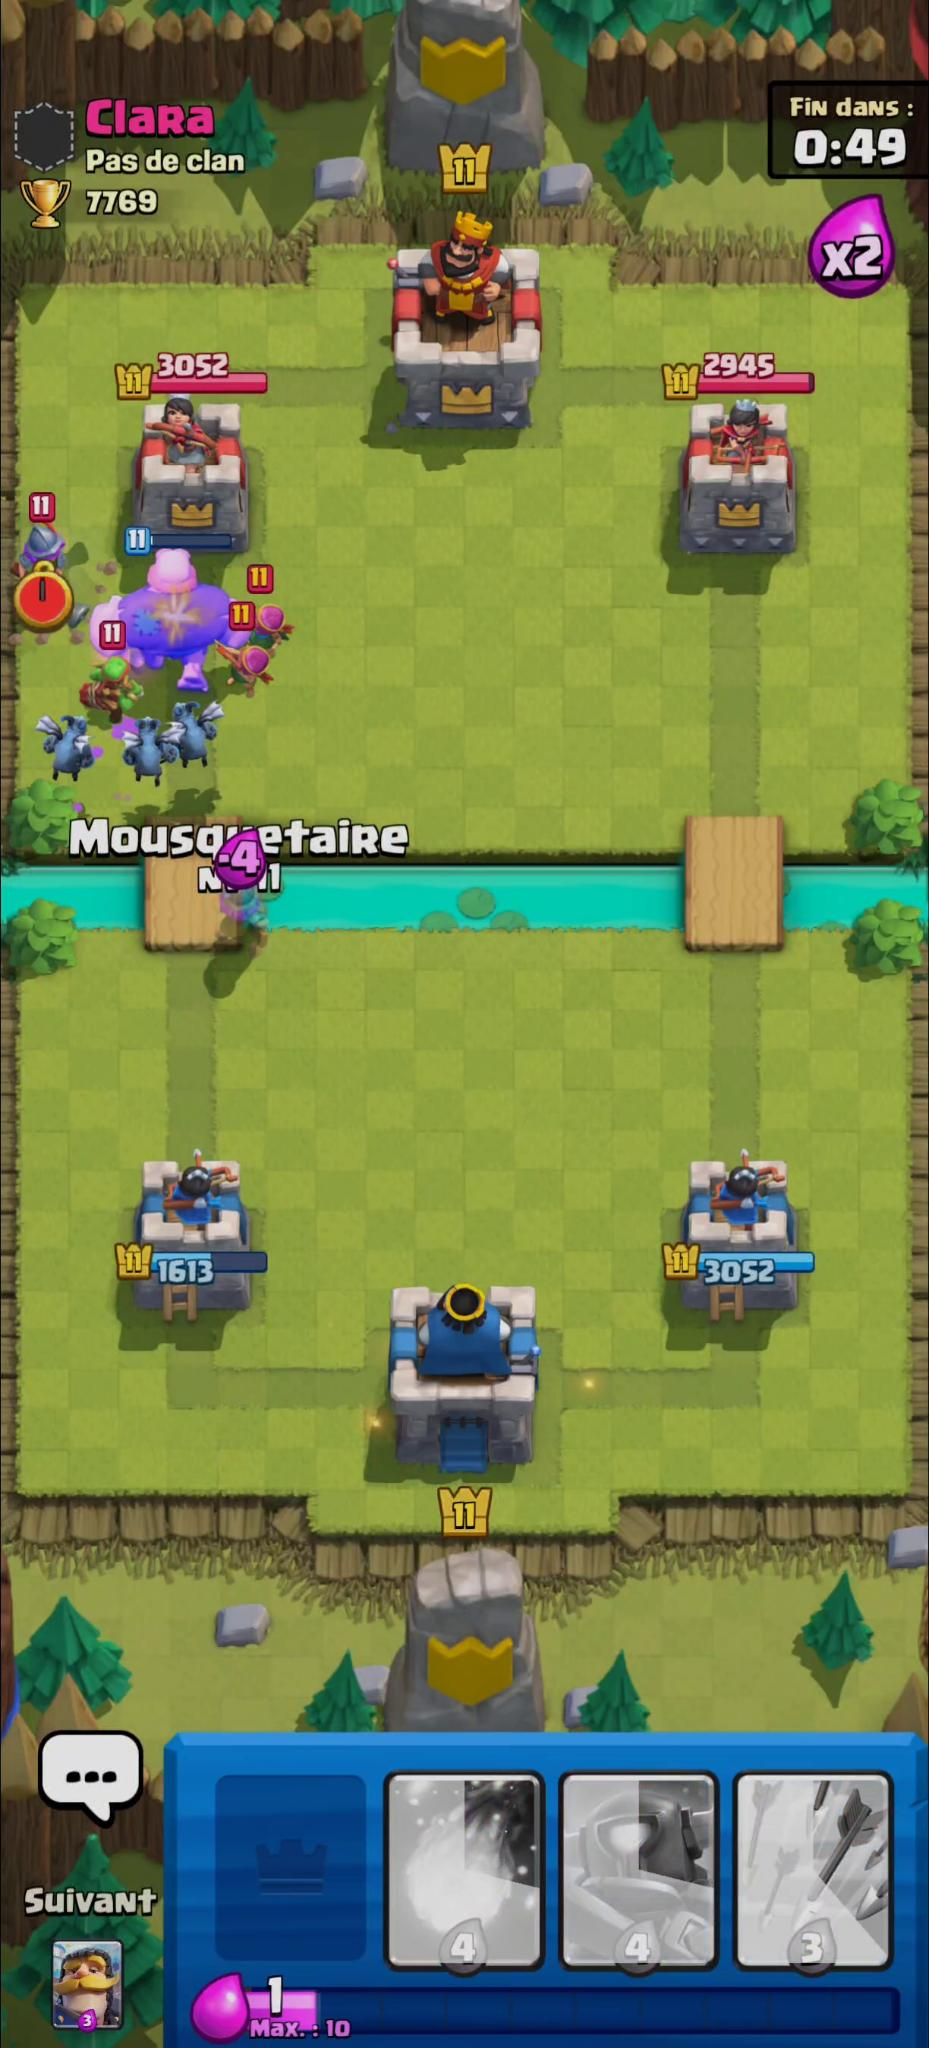archere: (213, 644, 277, 699), (243, 602, 295, 653)
gargouille: (169, 697, 227, 768), (39, 709, 95, 782), (123, 714, 178, 785)
geant: (90, 550, 247, 691)
gobelin_lances: (77, 657, 144, 722)
mousquetaire: (16, 524, 88, 636), (221, 883, 269, 957)
